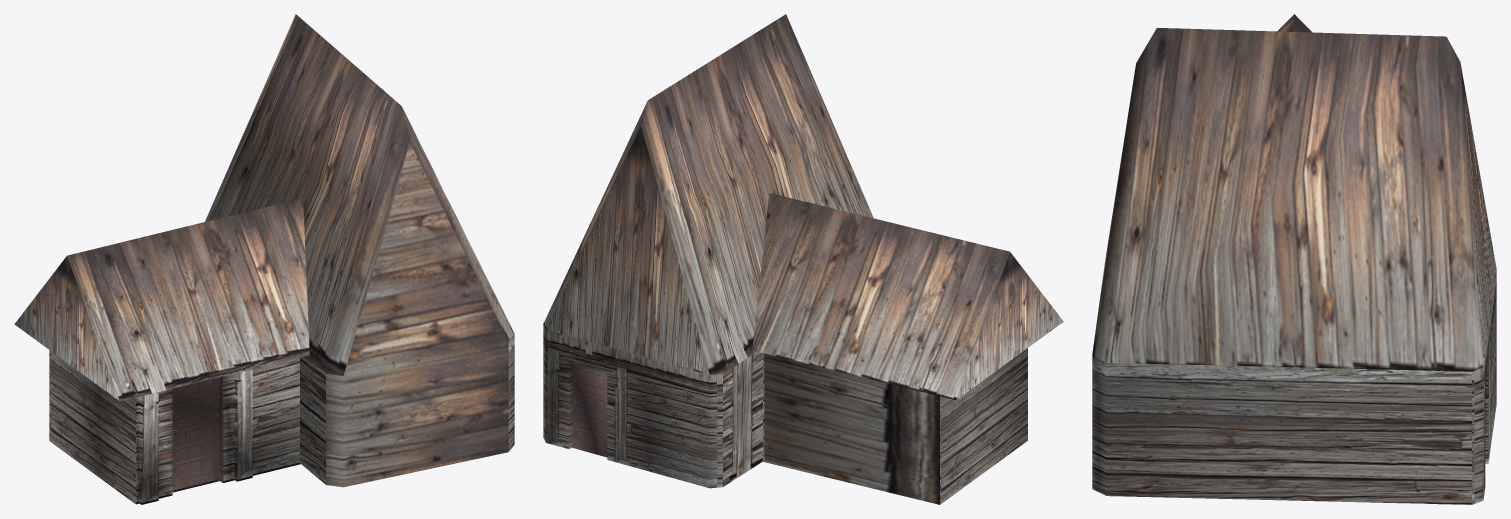
Rendered from Casa2.fbx.
3 views of the same model, side by side, from view 1: azimuth 30°, elevation 25°; view 2: azimuth 150°, elevation 25°; view 3: azimuth 270°, elevation 25° (orthographic). The views are drawn at different scales.
Visible parts, largest first — view 1: Casa2; view 2: Casa2; view 3: Casa2.
Boxes of the visible parts, bbox=[...] form: Casa2: bbox=[14, 14, 514, 504]; Casa2: bbox=[543, 14, 1063, 504]; Casa2: bbox=[1092, 14, 1496, 504].
Bounding box in the file's own units: 513 × 390 × 443.
